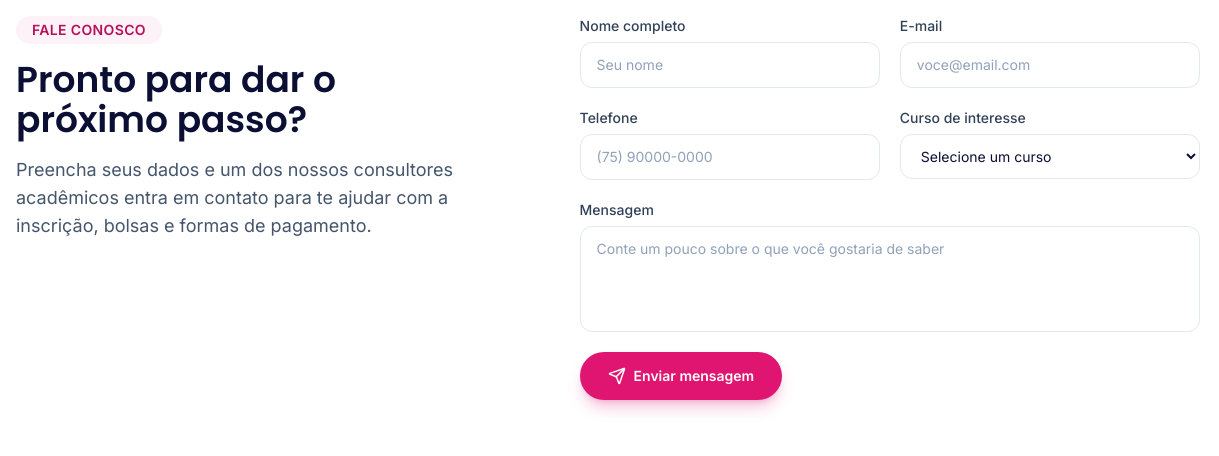
Scenario: ContactForm › envia o formulário com sucesso quando todos os campos são válidos
In the field labelled "Nome completo": (730, 65) 580,42 -> 880,88, type "Ana Souza"
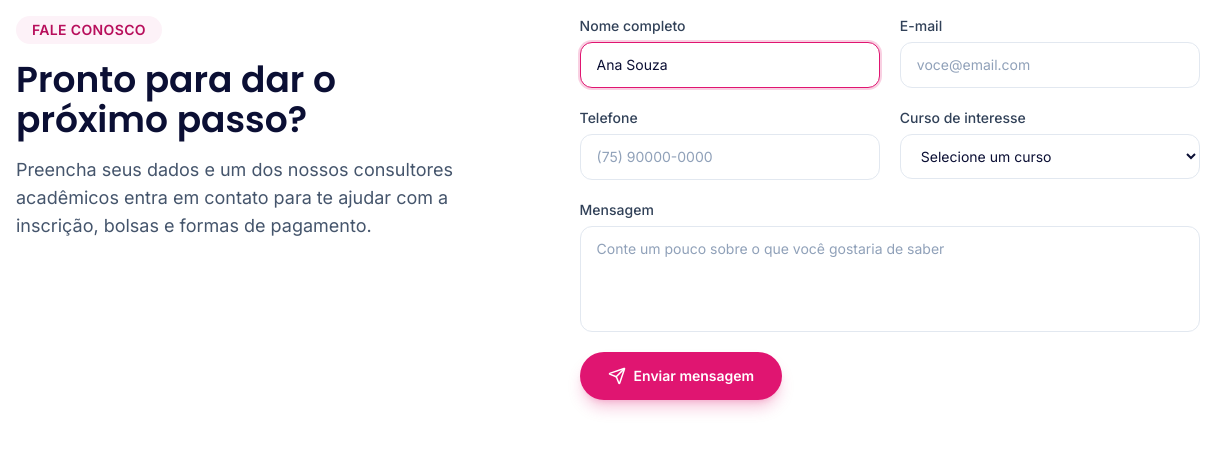
In the field labelled "E-mail": (1050, 65) 900,42 -> 1200,88, type "ana@example.com"
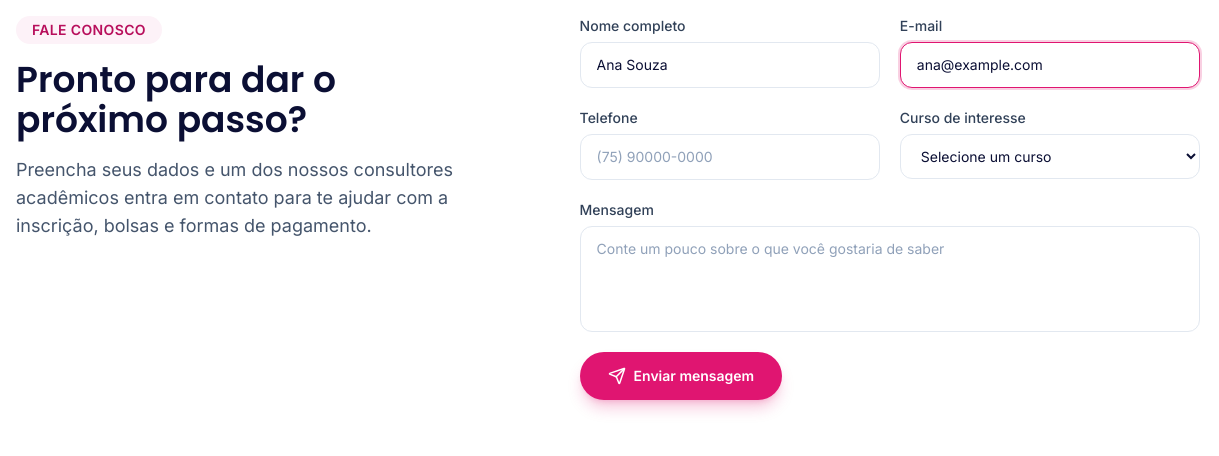
In the field labelled "Telefone": (730, 157) 580,134 -> 880,180, type "75988887777"
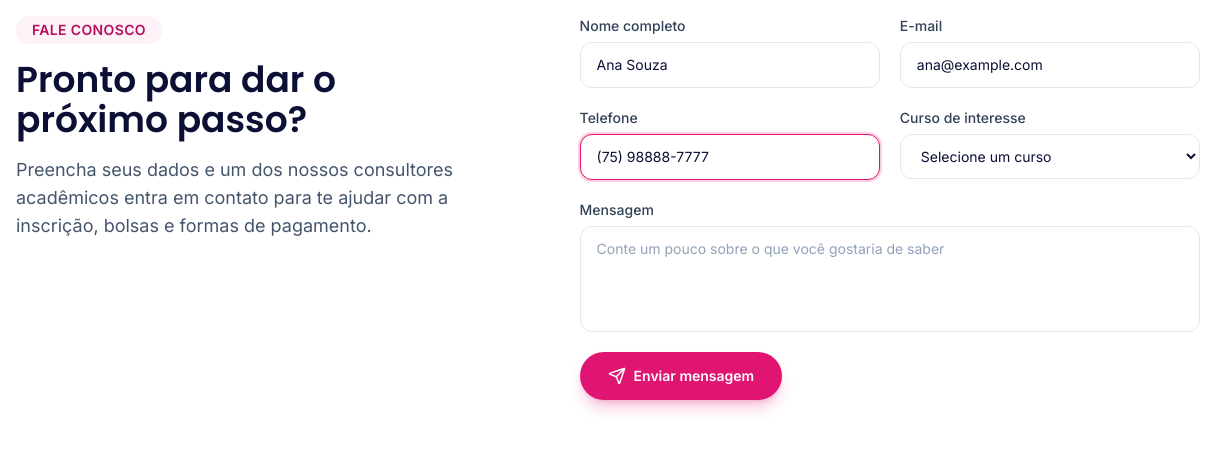
Select "Medicina" in the dropdown labelled "Curso de interesse": (1050, 156) 900,134 -> 1200,179
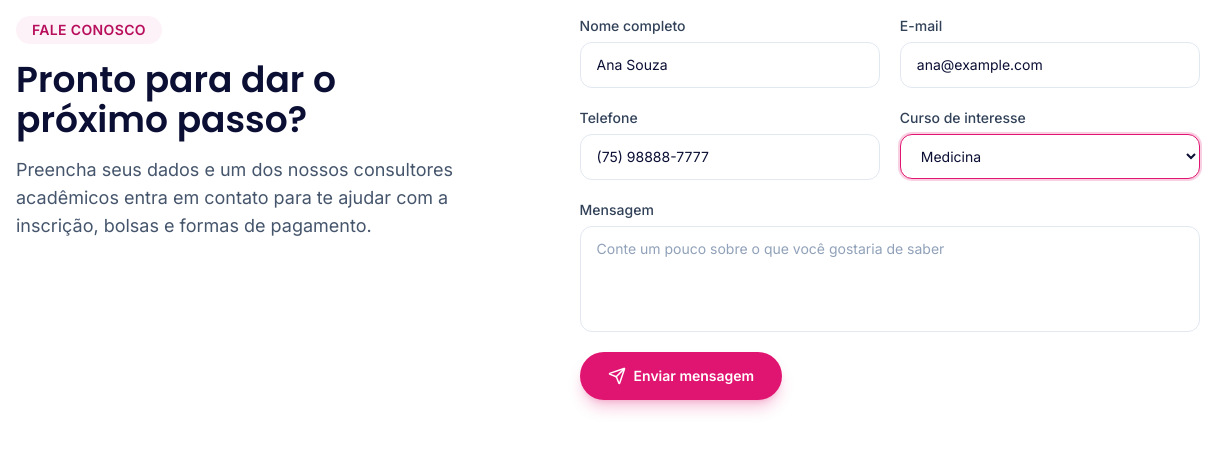
In the text box labelled "Mensagem": (890, 279) 580,226 -> 1200,332, type "Gostaria de mais informações sobre o curso de Medicina."
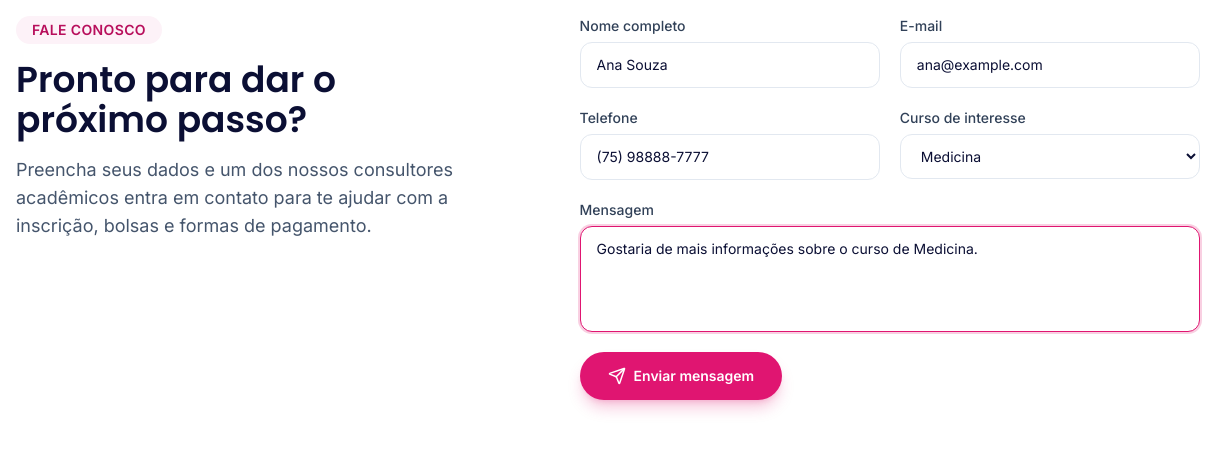
Click the button "Enviar mensagem": (681, 376) 580,352 -> 782,400
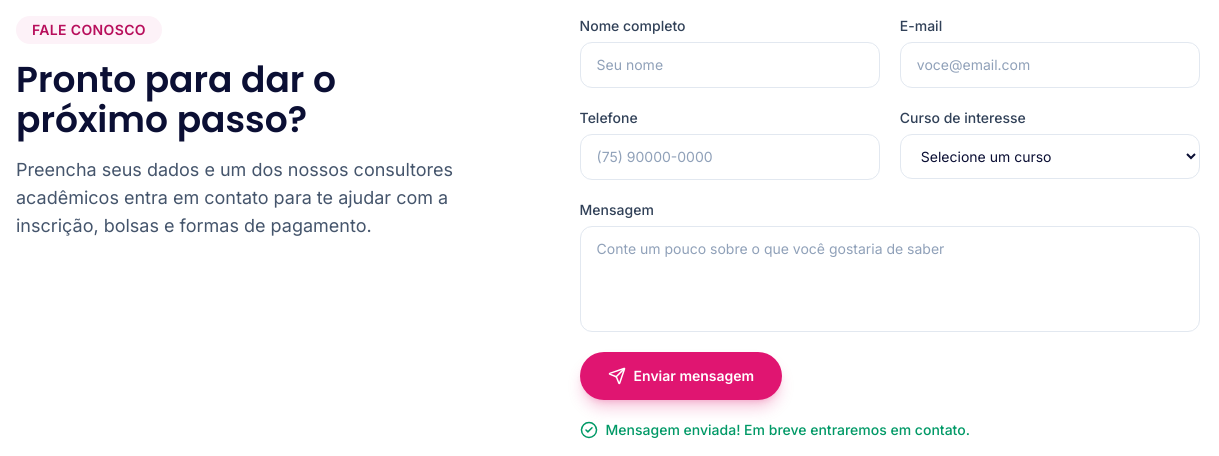
expect the text "Mensagem enviada! Em breve entraremos em contato." is shown: met, box 580,421 -> 970,439
